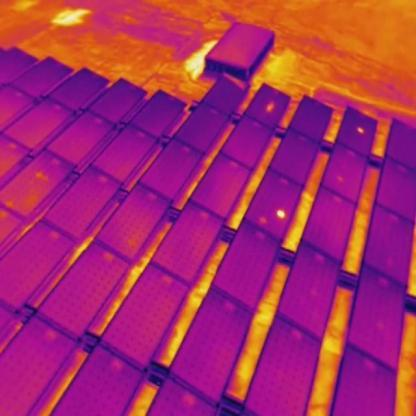anomaly: (274, 206, 290, 223), (265, 99, 276, 115), (355, 123, 367, 136)
